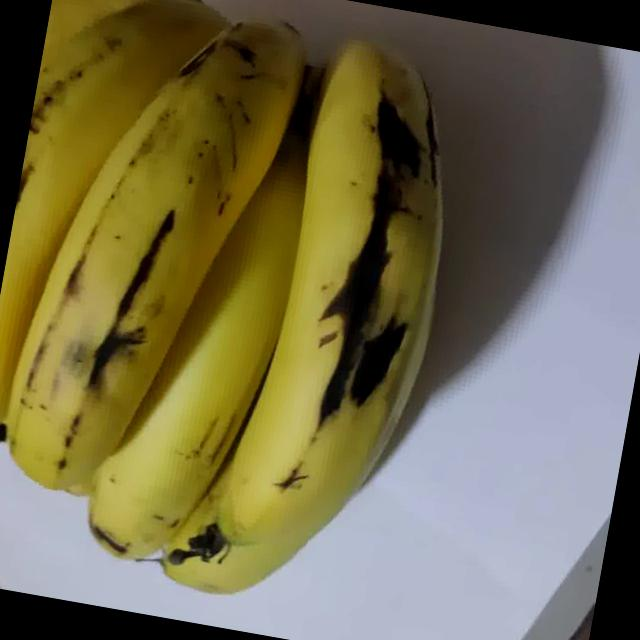banana_pacche: (0, 0, 573, 640)
